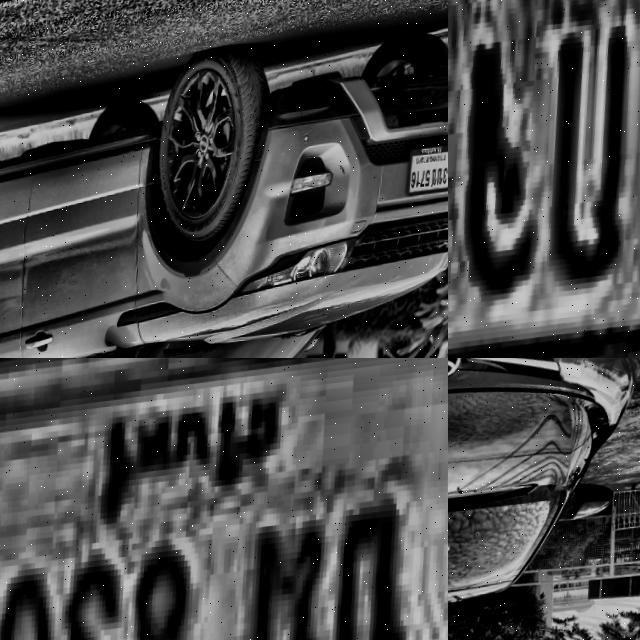license-plate: (0, 358, 448, 640), (448, 0, 640, 358), (407, 148, 448, 211)
